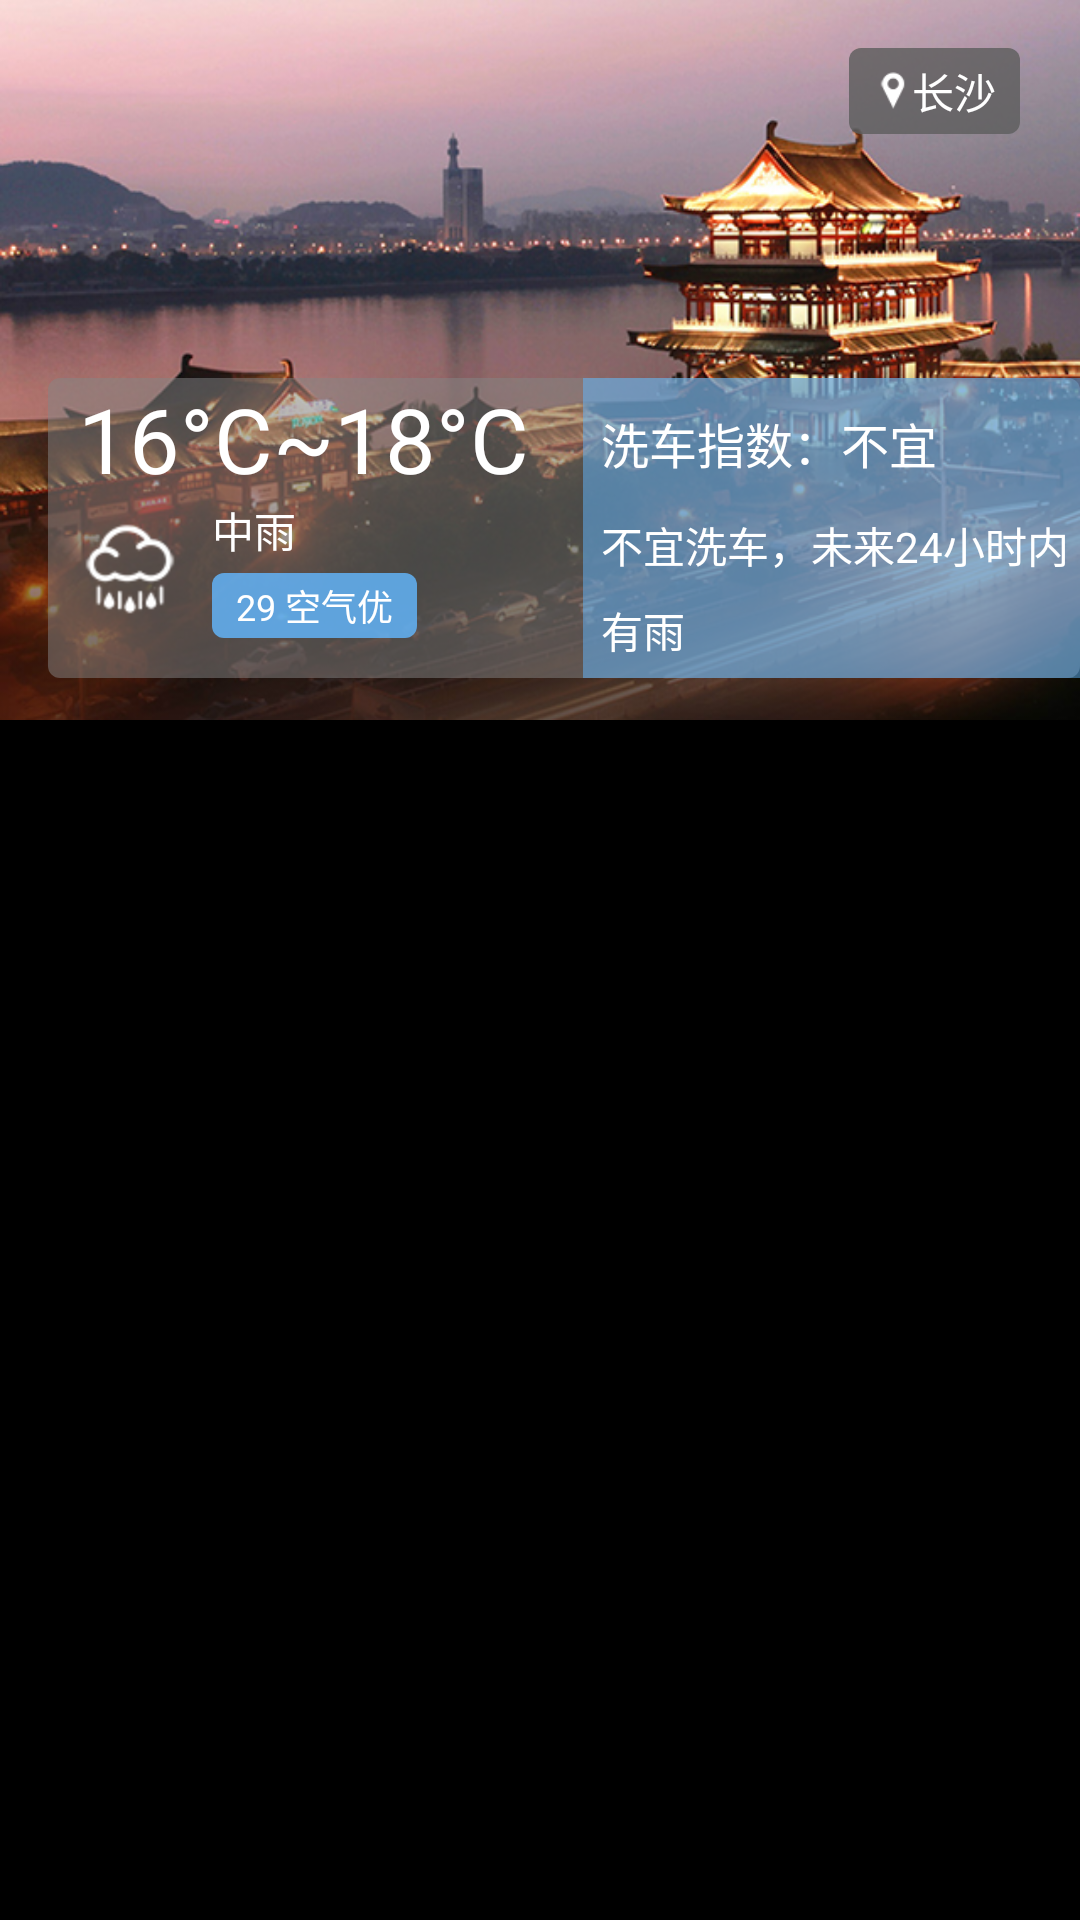

Locate icon controls on the screen. Image size 1080x1920, boxes as (x1, y1, x2, y2).
dabaoyu: (78, 517, 182, 621)
dingwei: (881, 72, 905, 108)
